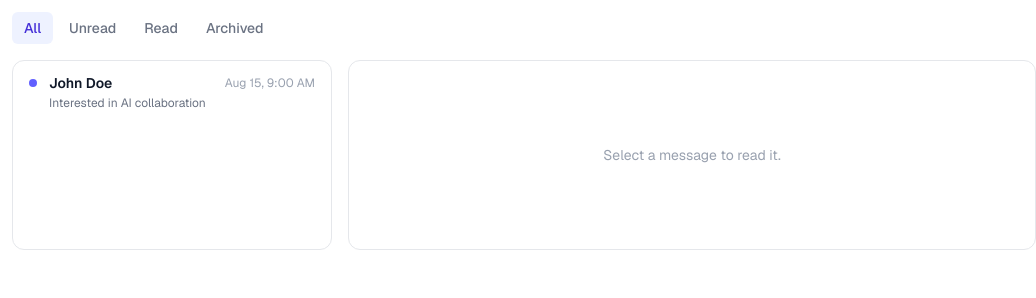
Test: MessagesClient › lists messages and opens one, marking it read
Click the text "John Doe": {"x": 81, "y": 83} top-left (49, 73), bottom-right (112, 93)
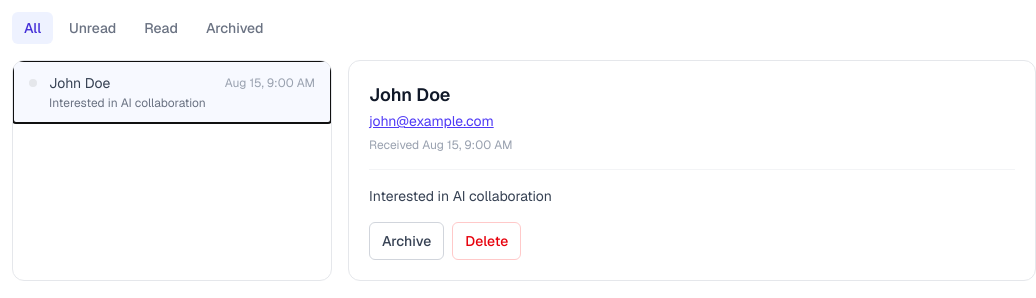
Check: the link "john@example.com" is shown, box top-left (369, 112), bottom-right (494, 130)
